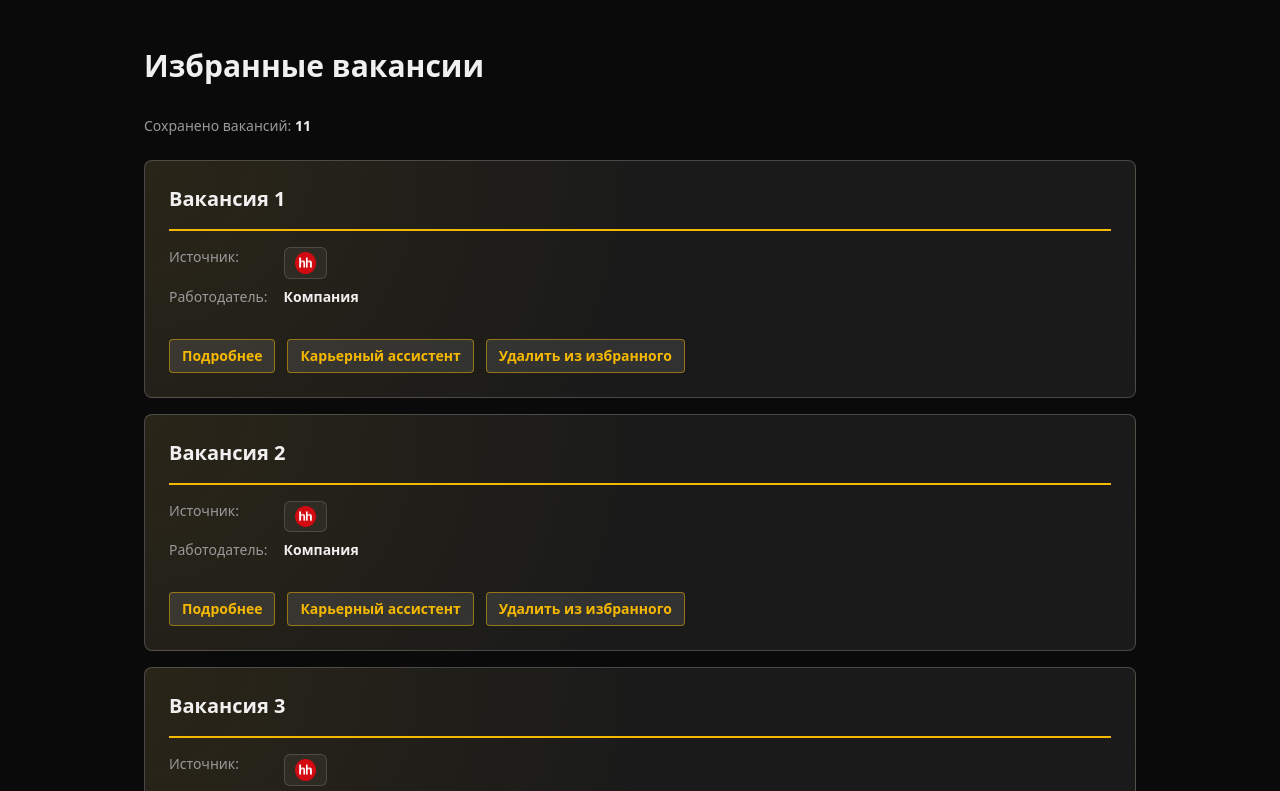
it: favorites removal and focus › reports a named deletion error and retains the focused retry button
Click the button named "Удалить из избранного : Вакансия 1" at (585, 356), box [486,339,685,373]
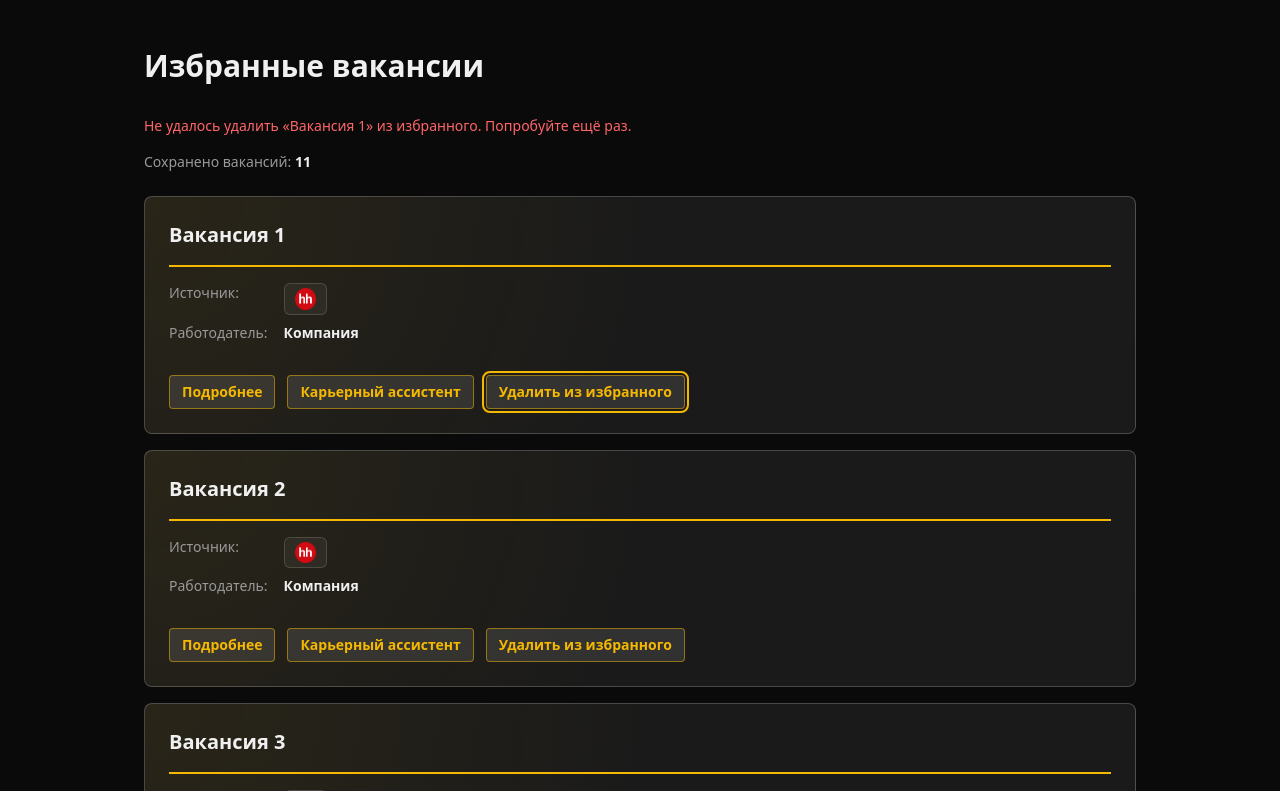
Expected: the link named "Подробнее : Вакансия 1 · Компания" is shown, [169,375,276,409]
Expected: the message "Не удалось удалить «Вакансия 1» из избранного. Попробуйте ещё раз." is shown, [144,116,631,135]
